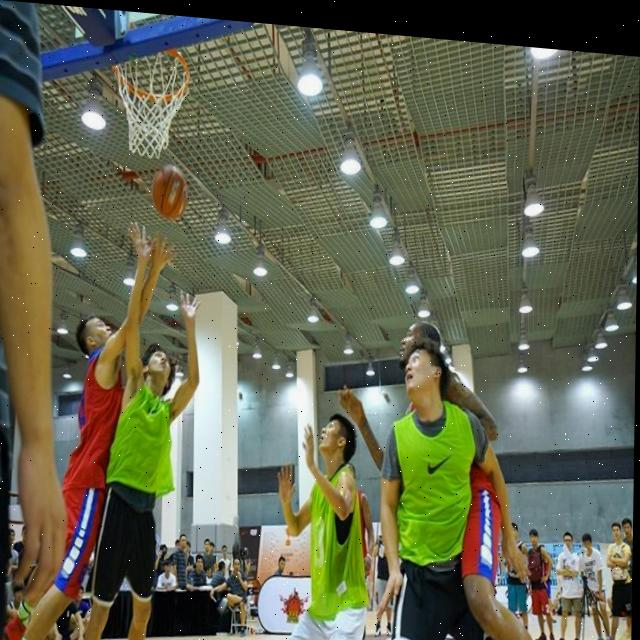basketball: (149, 163, 191, 226)
hoop: (110, 28, 193, 164)
